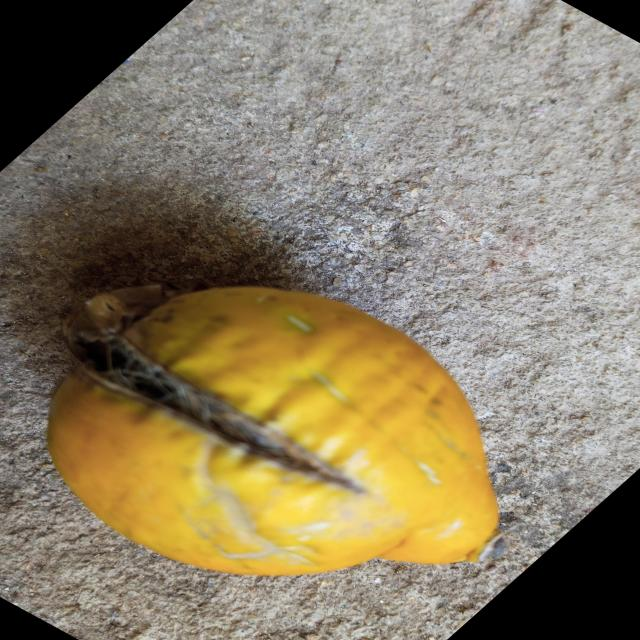damaged: (45, 286, 500, 578)
